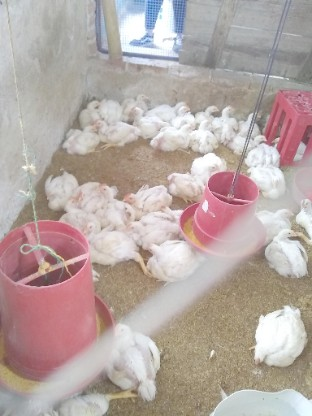Pollos: (104, 315, 166, 406), (249, 301, 309, 369), (143, 237, 202, 286), (83, 220, 137, 269), (267, 228, 310, 280), (43, 385, 110, 416), (123, 213, 178, 243), (121, 184, 174, 213), (153, 120, 195, 152), (170, 168, 209, 201), (60, 124, 101, 155), (96, 116, 137, 146), (250, 166, 287, 199), (40, 170, 70, 208), (128, 106, 166, 135), (192, 149, 229, 178), (247, 144, 282, 168), (196, 118, 218, 154), (294, 189, 312, 232), (262, 204, 294, 228), (94, 180, 120, 208), (76, 96, 100, 126), (99, 95, 125, 120), (159, 203, 189, 220), (270, 126, 291, 147), (69, 181, 91, 200), (246, 110, 266, 130), (62, 195, 79, 214), (134, 88, 153, 102), (199, 97, 219, 110), (221, 104, 237, 120), (177, 105, 193, 121), (194, 105, 211, 119), (174, 96, 190, 109), (252, 134, 271, 144)
